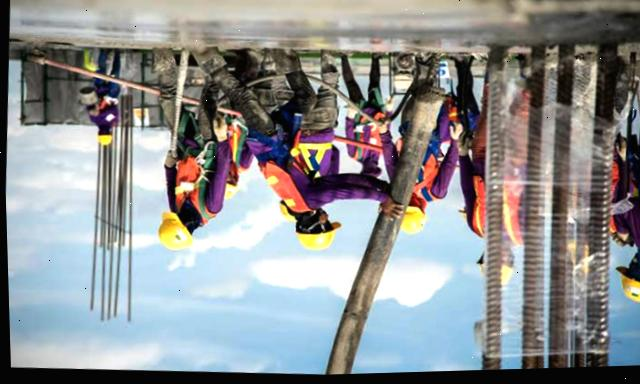helmet: (378, 198, 433, 246), (274, 222, 340, 260), (461, 260, 524, 297), (155, 212, 200, 257), (604, 275, 640, 317), (91, 132, 122, 152)
vest: (456, 158, 538, 249), (153, 125, 230, 218), (379, 126, 466, 208), (239, 143, 326, 220), (330, 96, 402, 171)
